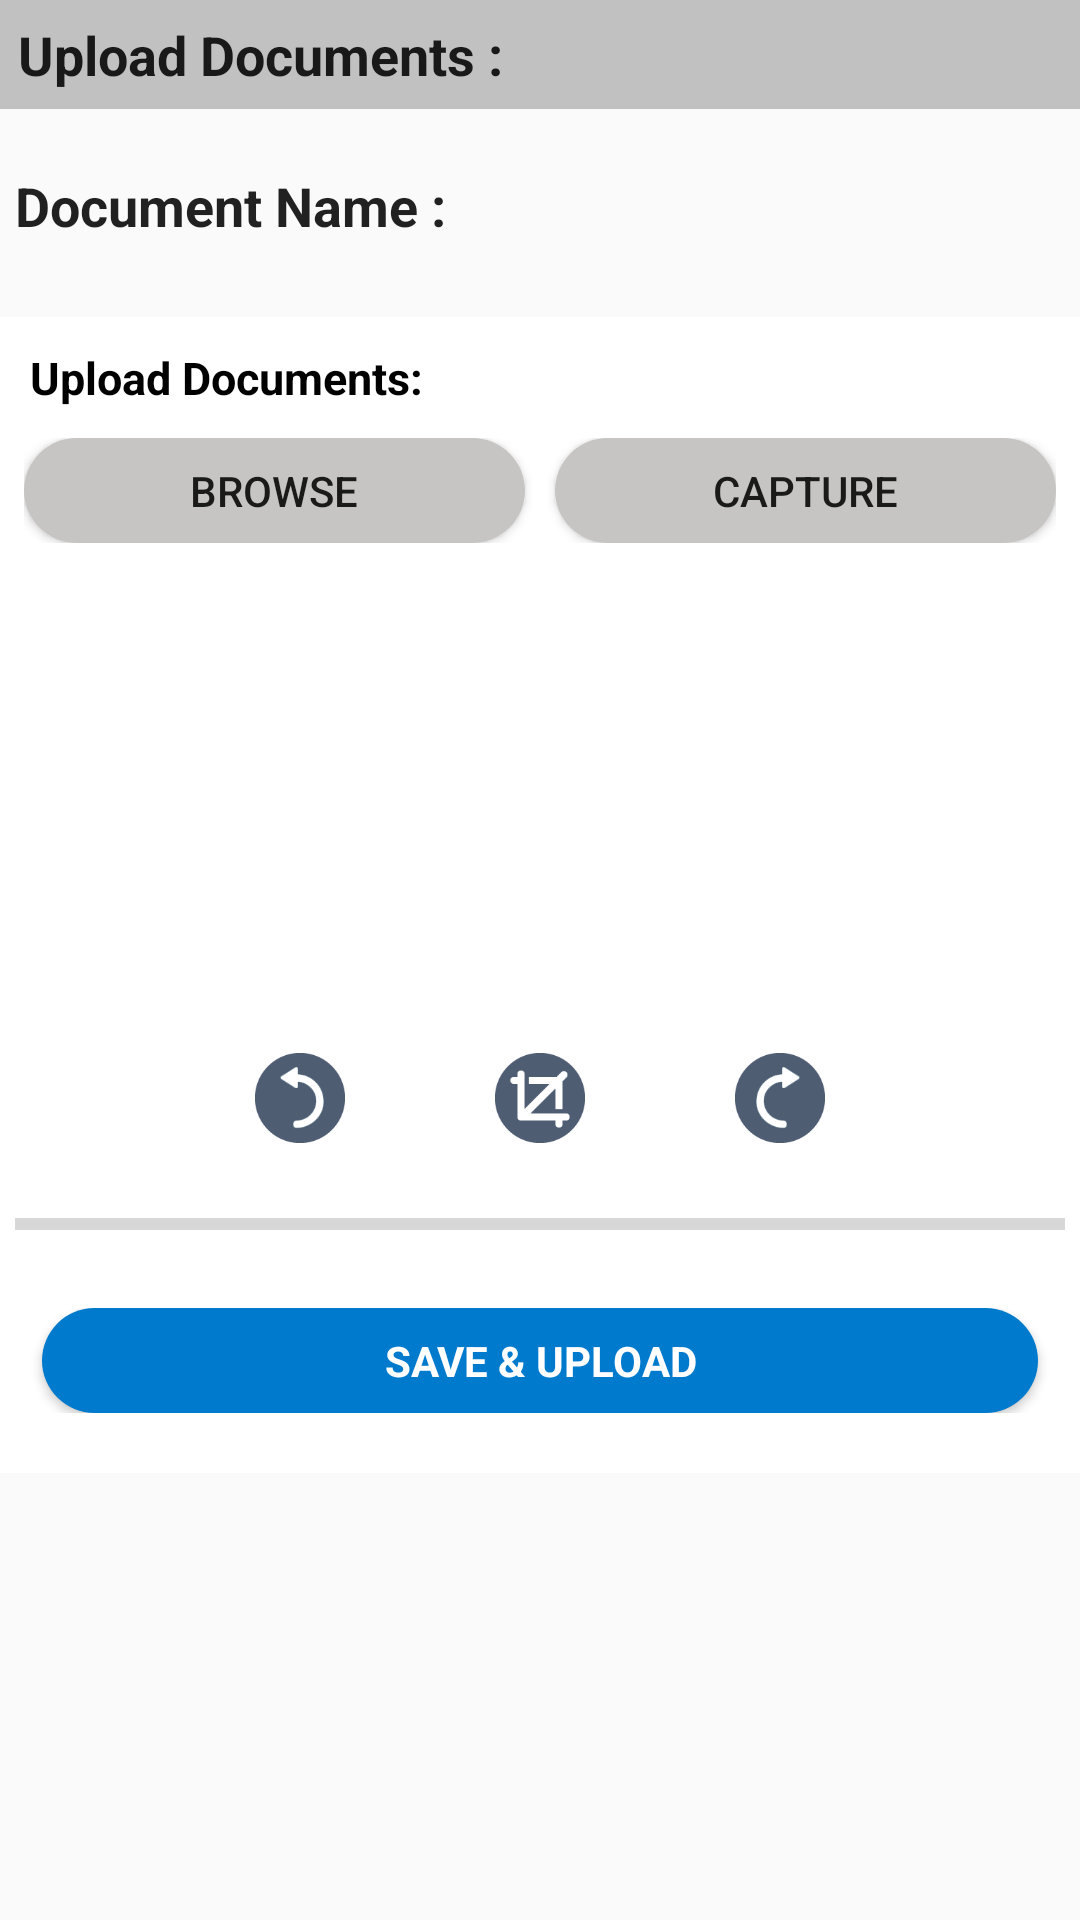

Named icons in this screenshot (1080x1920) and their centers, point (x, y):
crop: point (540, 1098)
rotate left: point (300, 1098)
rotate right: point (780, 1098)
